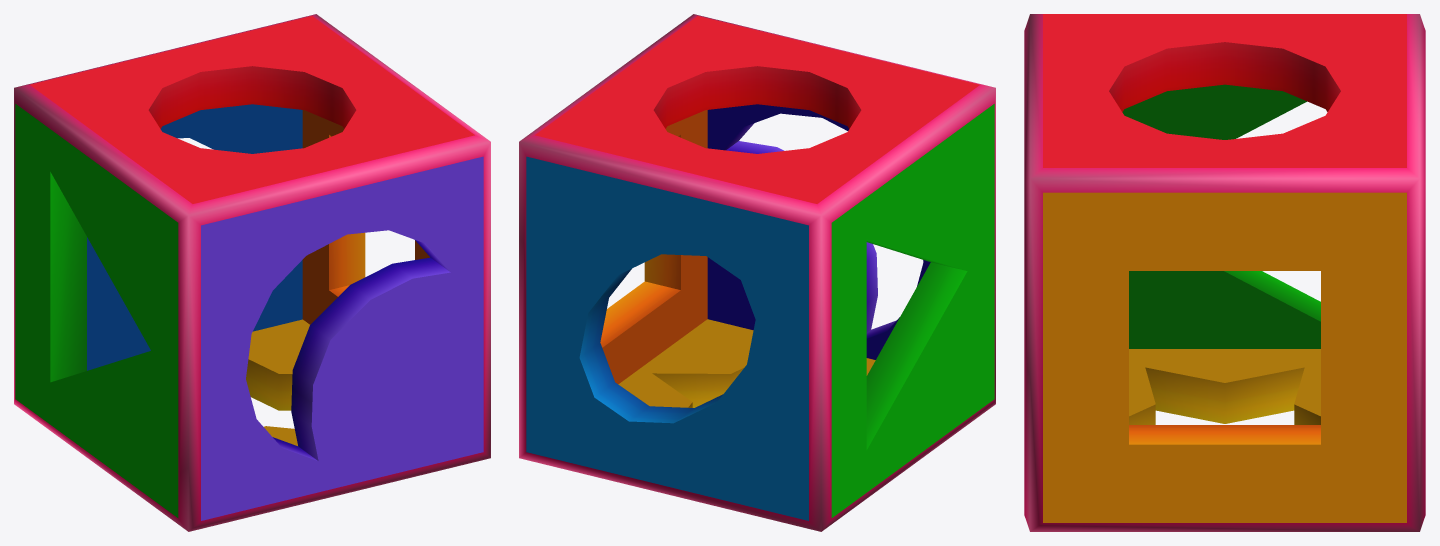
The model's file is logicCube.fbx.
The picture shows the model from 3 angles, left to right: view 1: azimuth 30°, elevation 25°; view 2: azimuth 150°, elevation 25°; view 3: azimuth 270°, elevation 25°; orthographic projection. The views are drawn at different scales.
Parts seen in each view (by area): view 1: logicCube; view 2: logicCube; view 3: logicCube.
Boxes of the visible parts, x1,y1,x2,y2 form: logicCube: (14,14,490,531); logicCube: (519,14,995,531); logicCube: (1024,14,1425,531).
Bounding box in the file's own units: 11.05 × 11.05 × 11.05.
